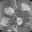people: (4, 6, 15, 17), (0, 18, 12, 27), (16, 17, 23, 26)
